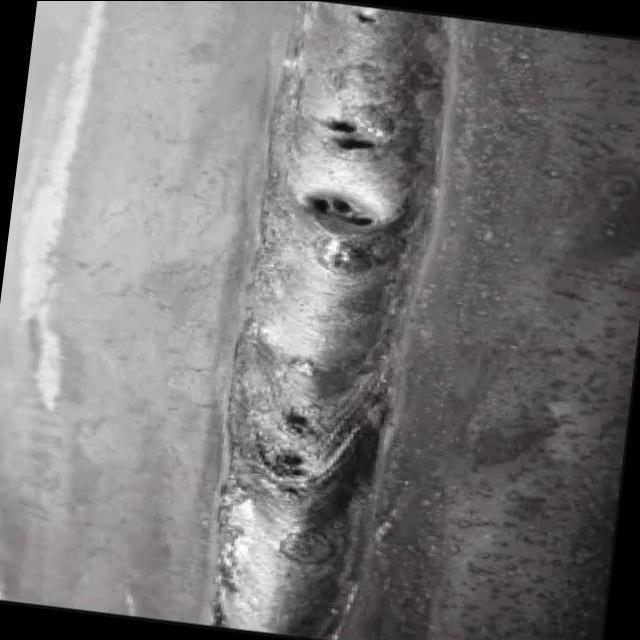defect: (296, 188, 383, 233), (310, 109, 387, 155), (270, 444, 312, 495), (272, 404, 319, 439), (350, 7, 382, 29)
